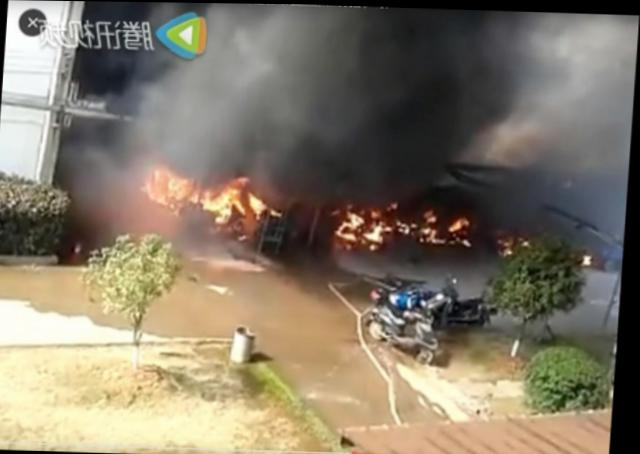fire: (202, 178, 249, 220), (149, 172, 193, 207), (366, 214, 393, 241), (339, 211, 365, 239), (250, 194, 269, 218), (448, 214, 472, 232), (420, 225, 444, 239)
